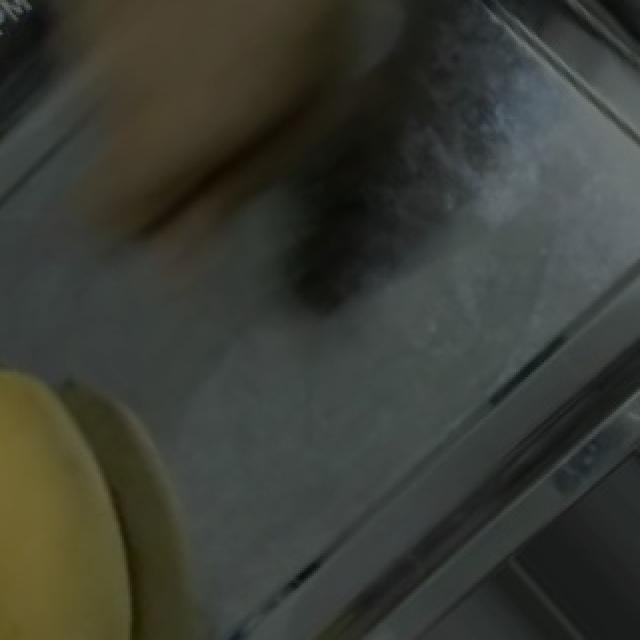fruit: (4, 0, 388, 265), (0, 335, 224, 640)
